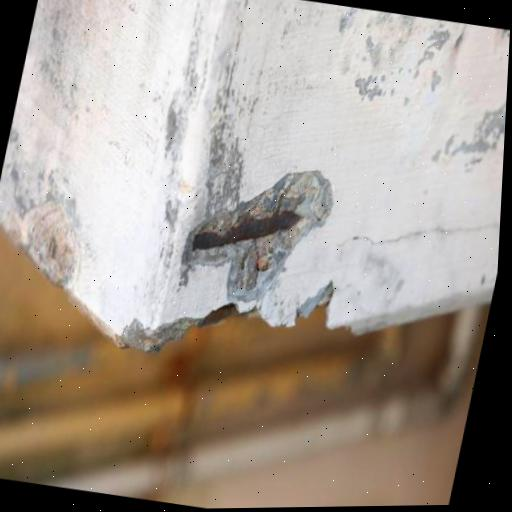exposed_rebar: (192, 209, 300, 249)
spalling: (191, 170, 333, 302)
